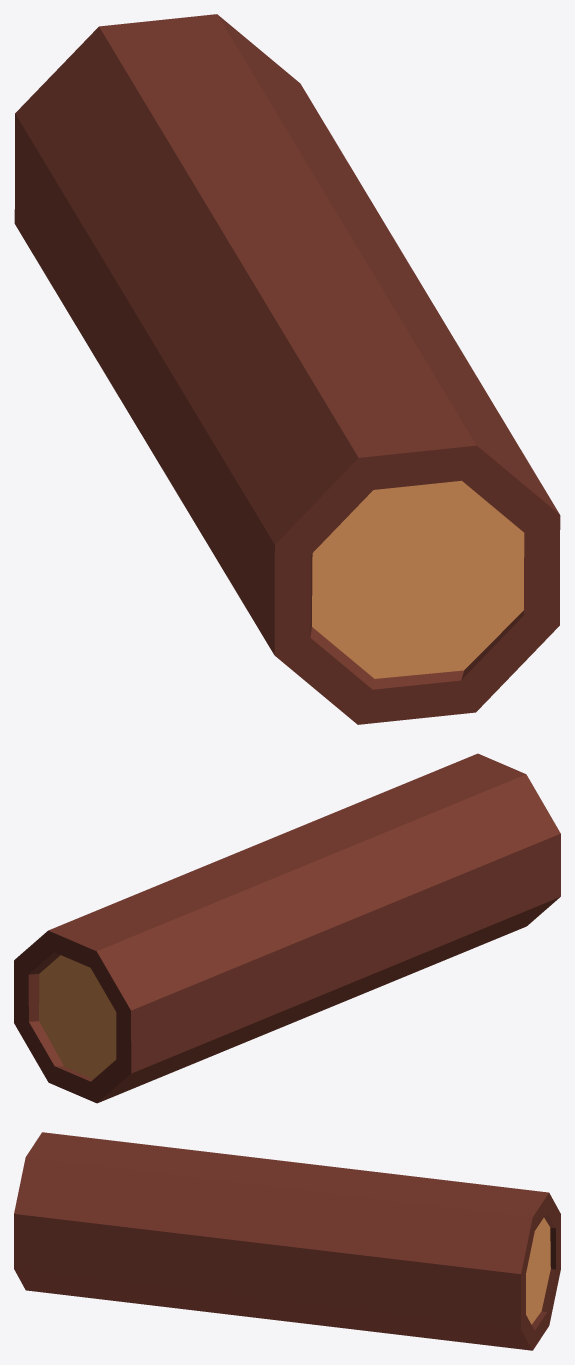
Rendered from log.fbx.
3 renders of one model, top to bottom at view 1: azimuth 30°, elevation 25°; view 2: azimuth 150°, elevation 25°; view 3: azimuth 270°, elevation 25°, orthographic. The views are drawn at different scales.
Parts seen in each view (by area): view 1: Circle.006; view 2: Circle.006; view 3: Circle.006.
Part boxes in pixels (x1=…): Circle.006: x1=14, y1=14, x2=560, y2=724; Circle.006: x1=14, y1=753, x2=560, y2=1103; Circle.006: x1=14, y1=1132, x2=560, y2=1350.
Size of the model in its own units: 74.36 by 38.5 by 143.
